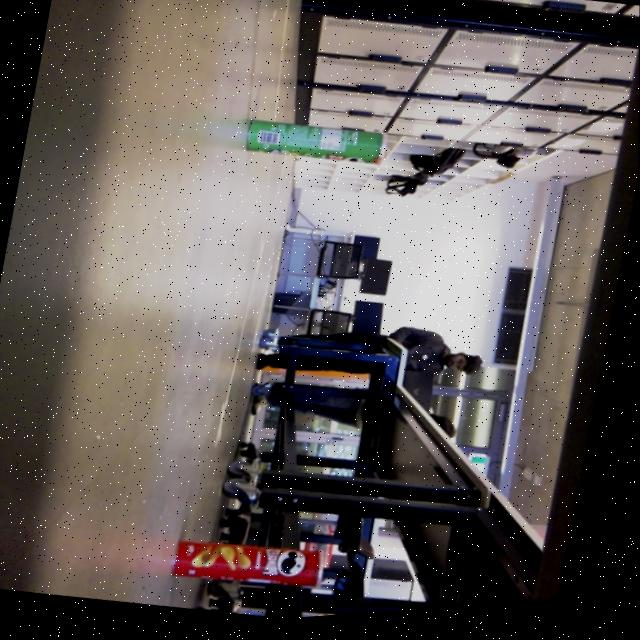greenpringles: (232, 106, 392, 189)
redpringles: (161, 511, 336, 613)
